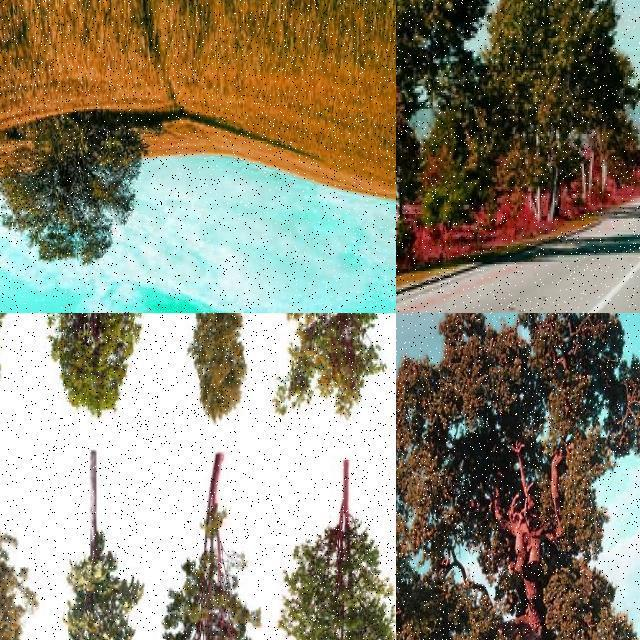tree: (396, 312, 640, 640), (494, 0, 626, 222), (397, 0, 488, 278), (0, 112, 144, 272), (279, 458, 391, 640), (160, 452, 256, 640), (50, 451, 141, 640), (276, 313, 396, 452), (44, 313, 142, 461), (0, 447, 74, 640), (176, 312, 248, 456), (421, 108, 482, 234), (0, 312, 42, 456)
